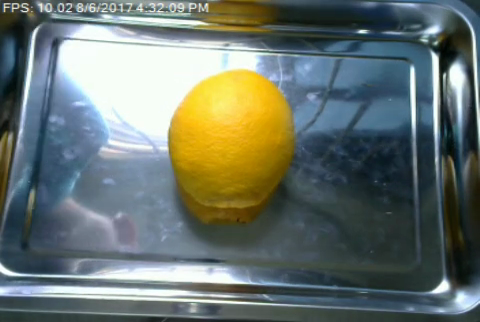Orange: (166, 67, 293, 208)
